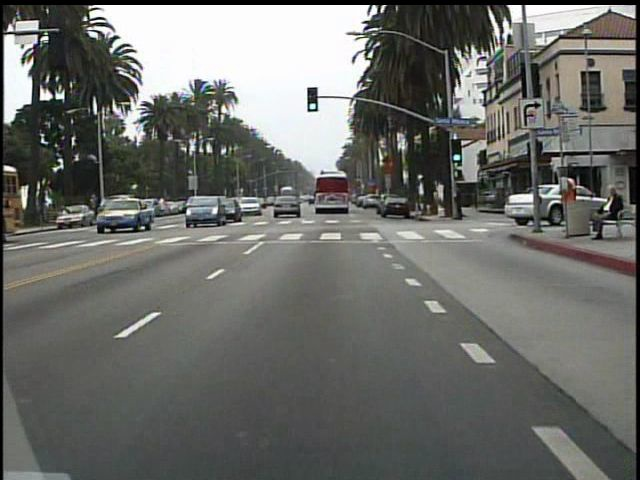person: (586, 183, 621, 240), (558, 172, 579, 234), (452, 184, 467, 226)
